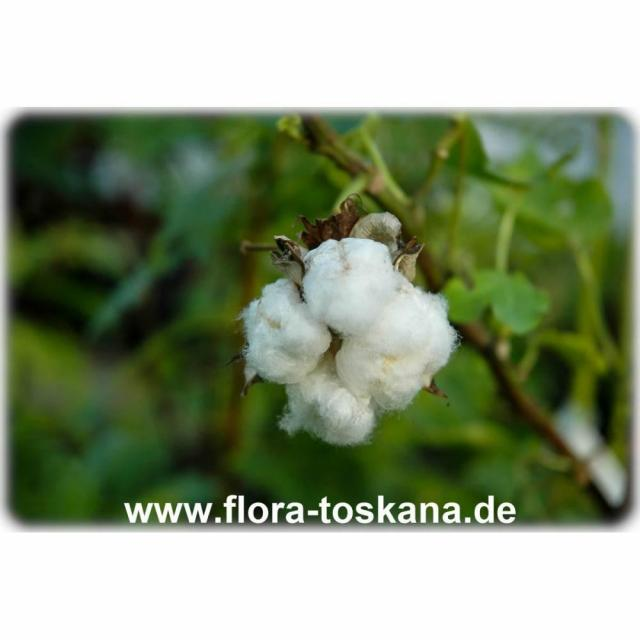Early_blight: (228, 188, 468, 457)
